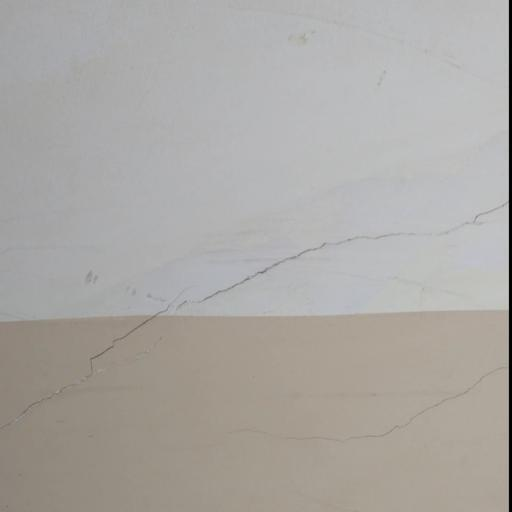minor_crack: (6, 189, 502, 356), (233, 364, 506, 457), (0, 357, 111, 434)
